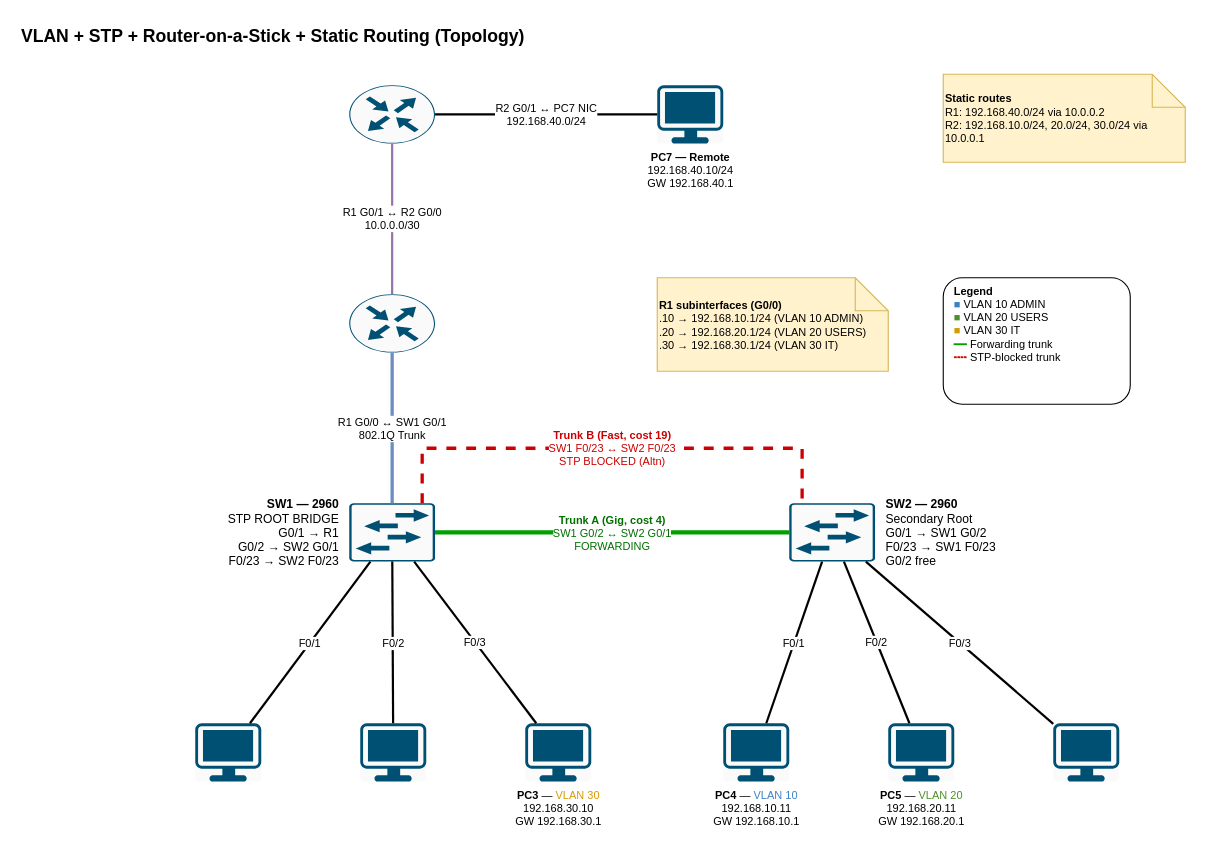
Some shapes in this 1205 by 847 pixel diagram are drawn without their labels. The centre of each missing label's shape, as x and y in pixels:
"PC1 — VLAN 10 192.168.10.10 GW 192.168.10.1" belongs at (227,752).
"PC2 — VLAN 20 192.168.20.10 GW 192.168.20.1" belongs at (392,752).
"PC6 — VLAN 30 192.168.30.11 GW 192.168.30.1" belongs at (1085,752).
"R1 — 1941 Router-on-a-Stick G0/0: no IP (trunk) G0/1: 10.0.0.1/30" belongs at (391,323).
"R2 — 1941 Remote Router (Stage 2) G0/0: 10.0.0.2/30 G0/1: 192.168.40.1/24" belongs at (391,114).
